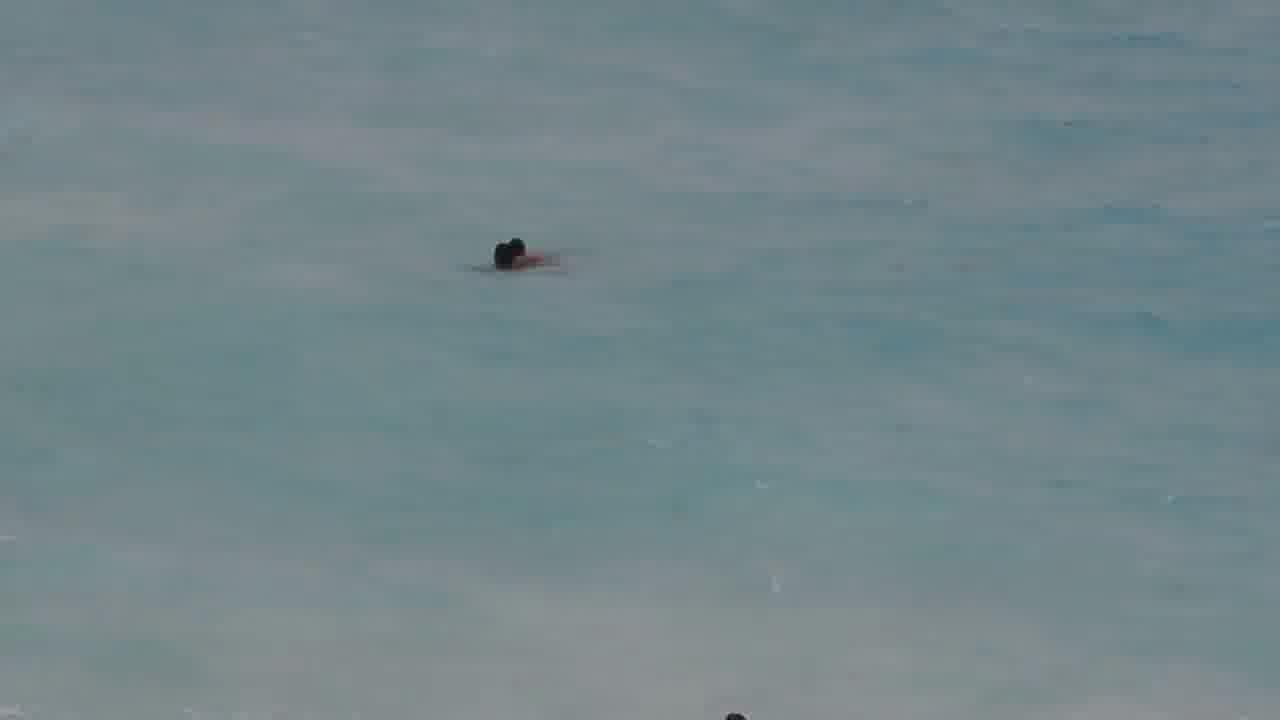human: (487, 234, 556, 276)
